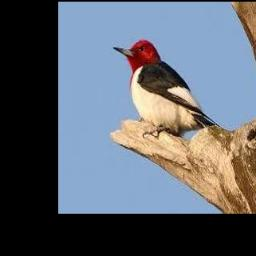Woodpecker: (113, 40, 215, 133)
